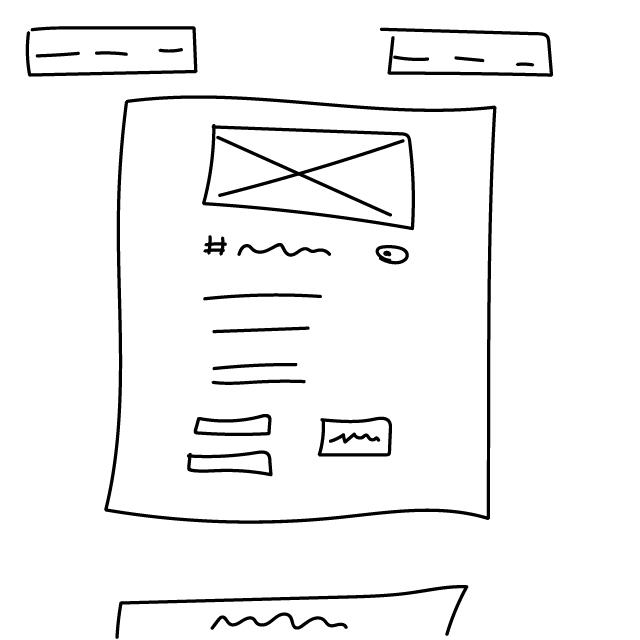button: (315, 411, 401, 460)
checkbox: (375, 246, 413, 267)
container: (100, 91, 528, 532)
footer: (103, 582, 478, 639)
frame: (199, 119, 423, 234)
heading: (201, 229, 335, 268)
input: (184, 448, 277, 478), (191, 414, 276, 439)
nav: (377, 21, 559, 83), (22, 24, 201, 81)
text: (197, 283, 331, 393)
